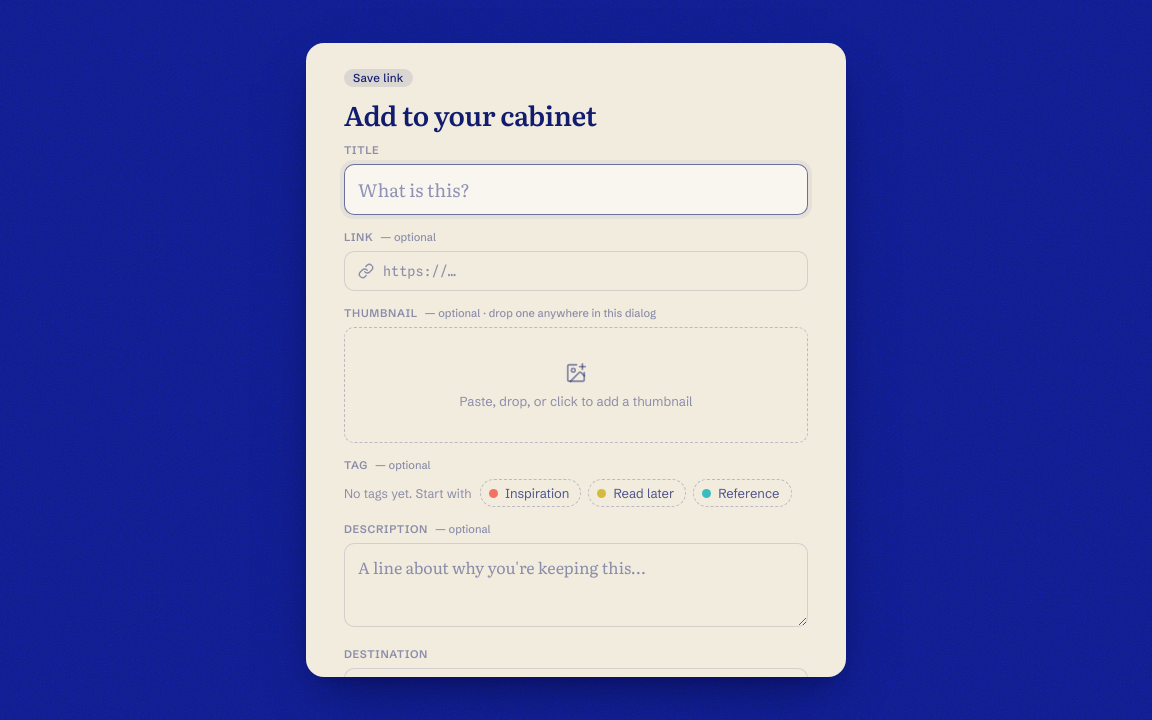
ComposeModal › fills empty fields once the link has been read
Type "https://example.com/the-quiet-revolution" into the field with placeholder "https://…".
click(588, 271); type("https://example.com/the-quiet-revolution")  # box [383,252,794,290]
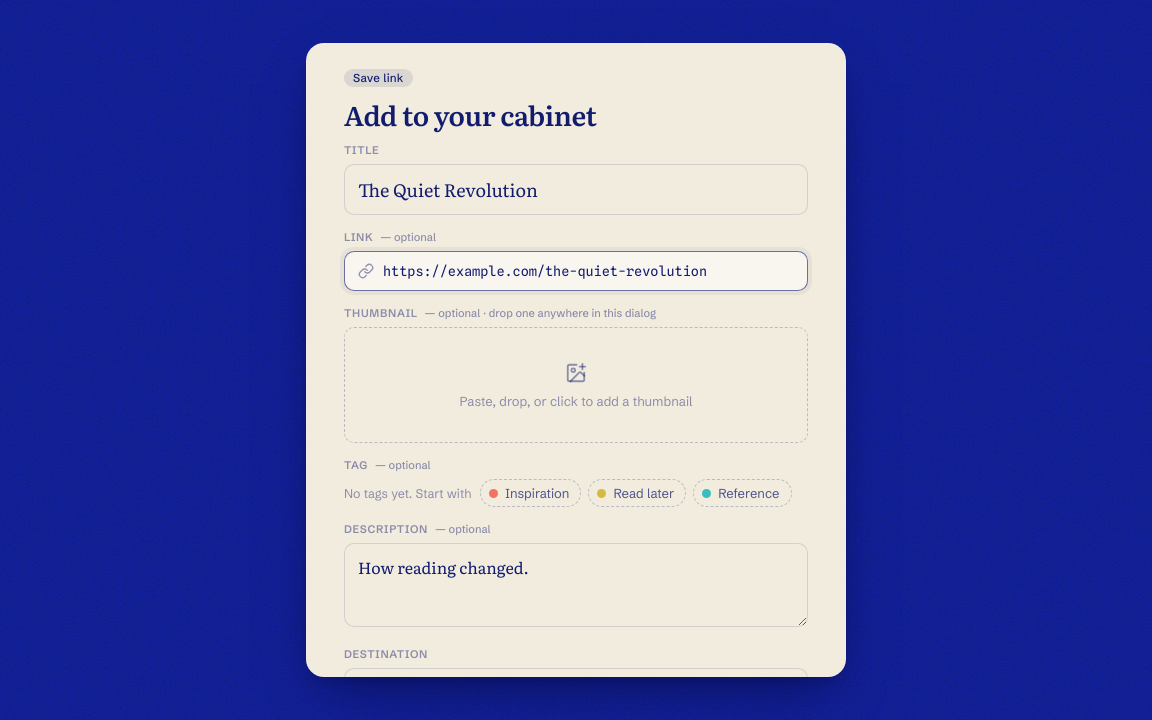
Now the field with placeholder "What is this?" below "Title" holds "The Quiet Revolution", box [344,164,808,215]
Now the text box with class "f-area" holds "How reading changed.", box [344,543,808,627]
